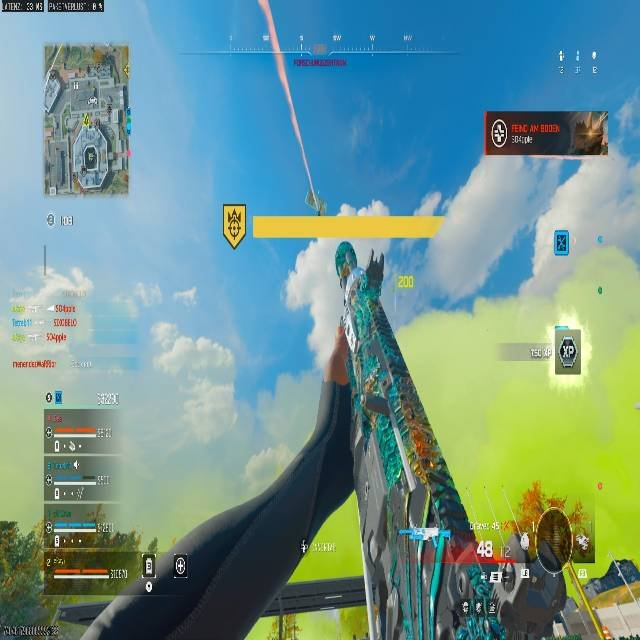head: (535, 508, 572, 567)
player: (491, 507, 636, 639)
